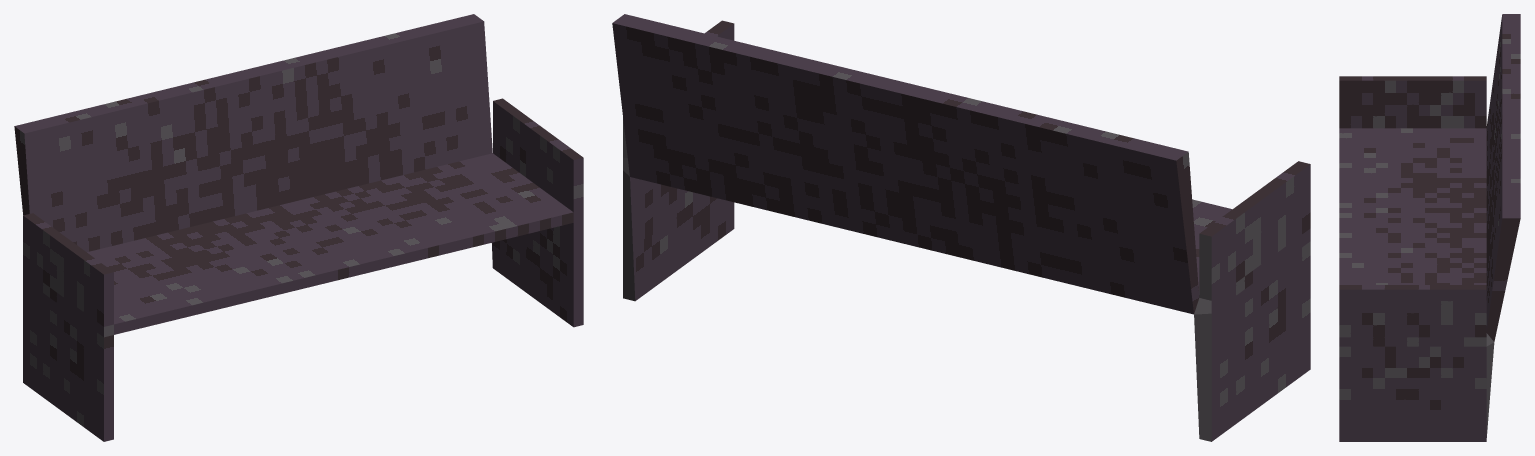
The model's file is Bench.fbx.
The picture shows the model from 3 angles, left to right: view 1: azimuth 30°, elevation 25°; view 2: azimuth 150°, elevation 25°; view 3: azimuth 270°, elevation 25°; orthographic projection. The views are drawn at different scales.
Visible parts, largest first — view 1: Cube.256; view 2: Cube.256; view 3: Cube.256.
Boxes of the visible parts, x1,y1,x2,y2 form: Cube.256: (14, 14, 583, 441); Cube.256: (612, 14, 1310, 441); Cube.256: (1339, 14, 1520, 441).
Size of the model in its own units: 300 by 144 by 108.
Materials: 1 (1 with a texture image).
